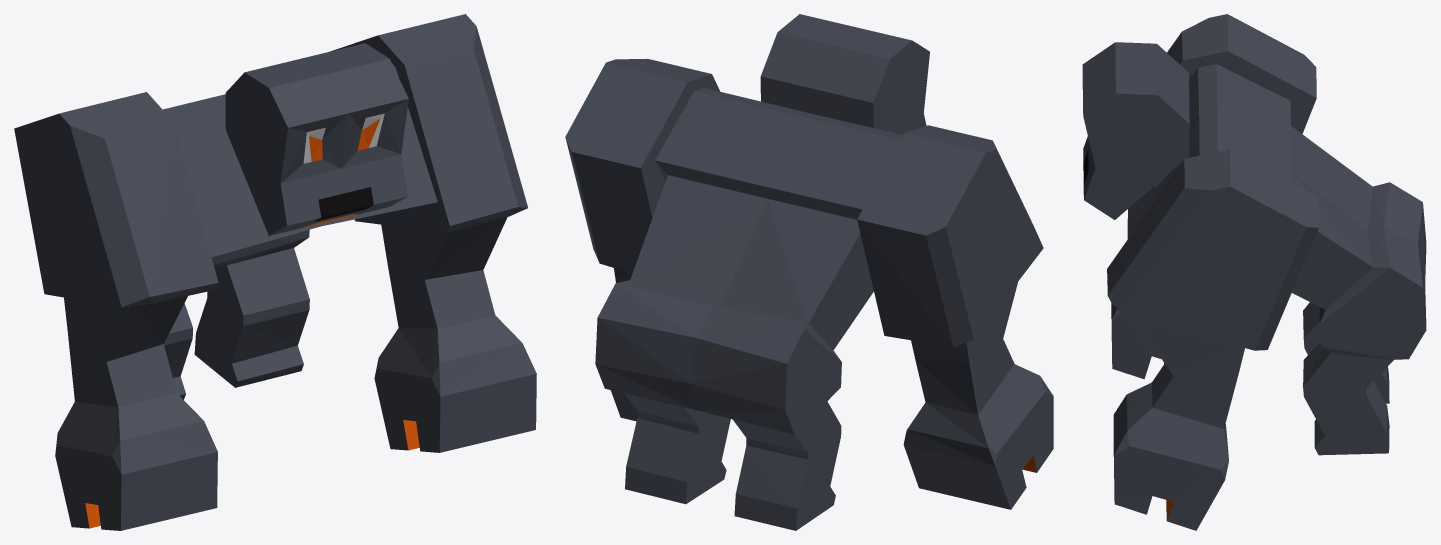
File: kong_000030.obj
3 views of the same model, side by side, from view 1: azimuth 30°, elevation 25°; view 2: azimuth 150°, elevation 25°; view 3: azimuth 270°, elevation 25° (orthographic). The views are drawn at different scales.
Visible parts, largest first — view 1: Cube; view 2: Cube; view 3: Cube.
Part boxes in pixels (x1,y1,x2,y2): Cube: (14, 14, 536, 530); Cube: (565, 14, 1053, 530); Cube: (1082, 14, 1426, 530).
Bounding box in the file's own units: 5.85 × 5.82 × 4.82.
1 material, 1 textured.
